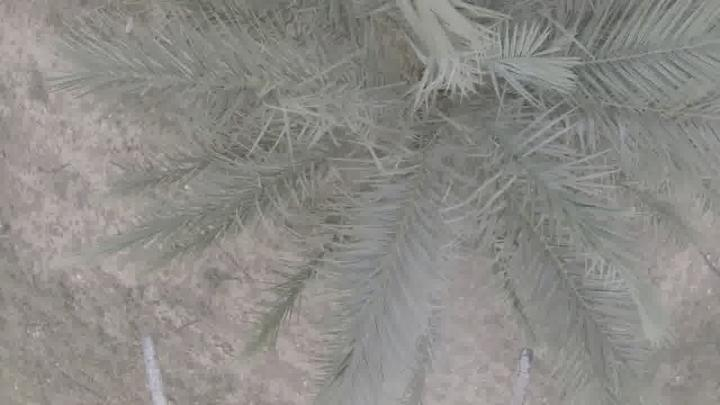Date-Palm-Crown: (250, 1, 668, 317)
